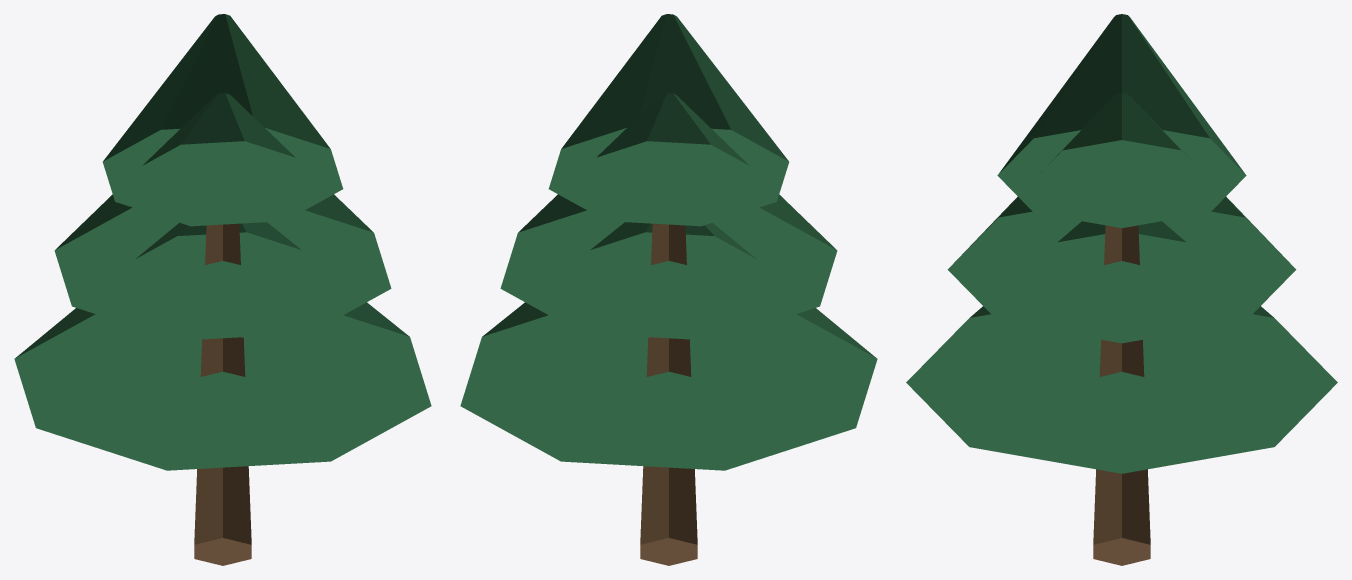
The model's file is resource_pine.glb.
3 views of the same model, side by side, from view 1: azimuth 30°, elevation 25°; view 2: azimuth 150°, elevation 25°; view 3: azimuth 270°, elevation 25° (orthographic).
Parts seen in each view (by area): view 1: resource_pine; view 2: resource_pine; view 3: resource_pine.
Part boxes in pixels (x1,y1,x2,y2): resource_pine: [14, 14, 431, 565]; resource_pine: [460, 14, 877, 565]; resource_pine: [906, 14, 1337, 565].
Bounding box in the file's own units: 0.7324 × 1 × 0.7324.
